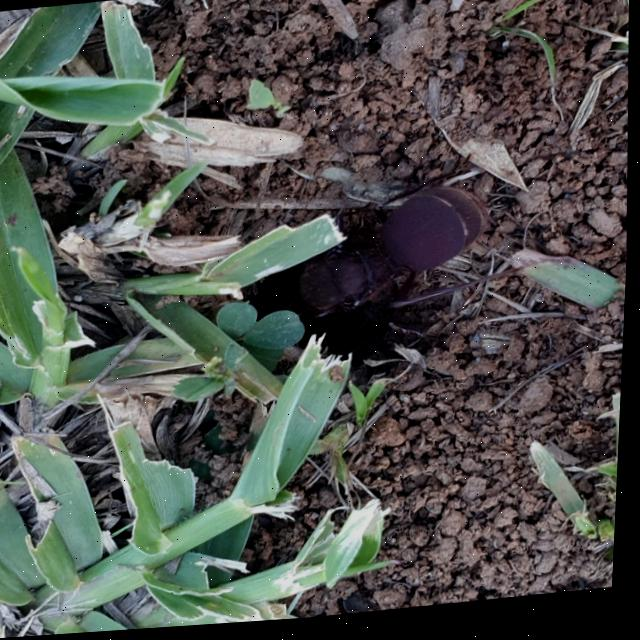Alive-Female-Dealate: (290, 157, 495, 321)
